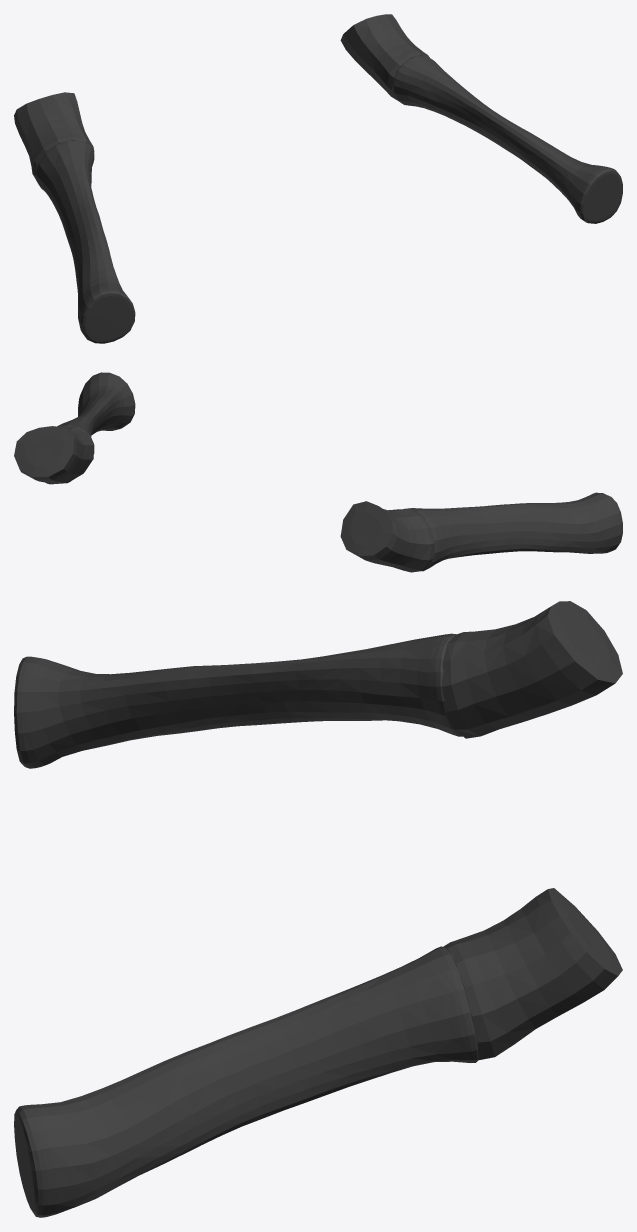
File: hyoid_epiyoid_LO.glb
3 views of the same model, one above another, from view 1: azimuth 30°, elevation 25°; view 2: azimuth 150°, elevation 25°; view 3: azimuth 270°, elevation 25° (orthographic). The views are drawn at different scales.
Visible parts, largest first — view 1: hyoid_epiyoid_LO; view 2: hyoid_epiyoid_LO; view 3: hyoid_epiyoid_LO.
Boxes of the visible parts, box(x1,y1,x2,y2) form: hyoid_epiyoid_LO: box(14, 14, 622, 343); hyoid_epiyoid_LO: box(14, 372, 622, 572); hyoid_epiyoid_LO: box(14, 601, 622, 1217).
Size of the model in its own units: 0.4872 by 0.1089 by 0.2556.
Materials: 1 (1 with a texture image).
